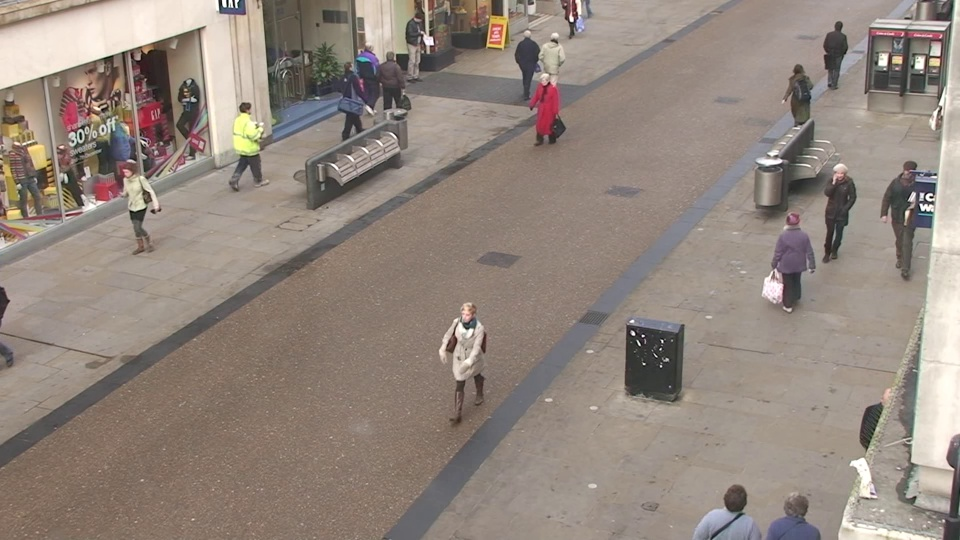pedestrian: (446, 295, 494, 438), (769, 206, 813, 326), (880, 155, 928, 264), (112, 158, 157, 262), (815, 160, 858, 268), (701, 470, 765, 540), (759, 476, 825, 540), (230, 97, 265, 186), (780, 61, 812, 143), (532, 70, 560, 154), (335, 57, 364, 136), (820, 19, 851, 92), (377, 48, 405, 124), (356, 38, 384, 111), (543, 29, 568, 100), (514, 27, 539, 97), (406, 10, 430, 76)
